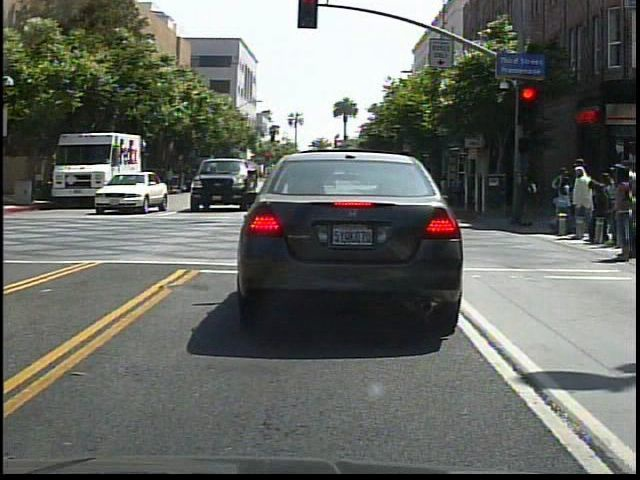person: (568, 161, 601, 253), (396, 160, 429, 225), (521, 166, 543, 230)
